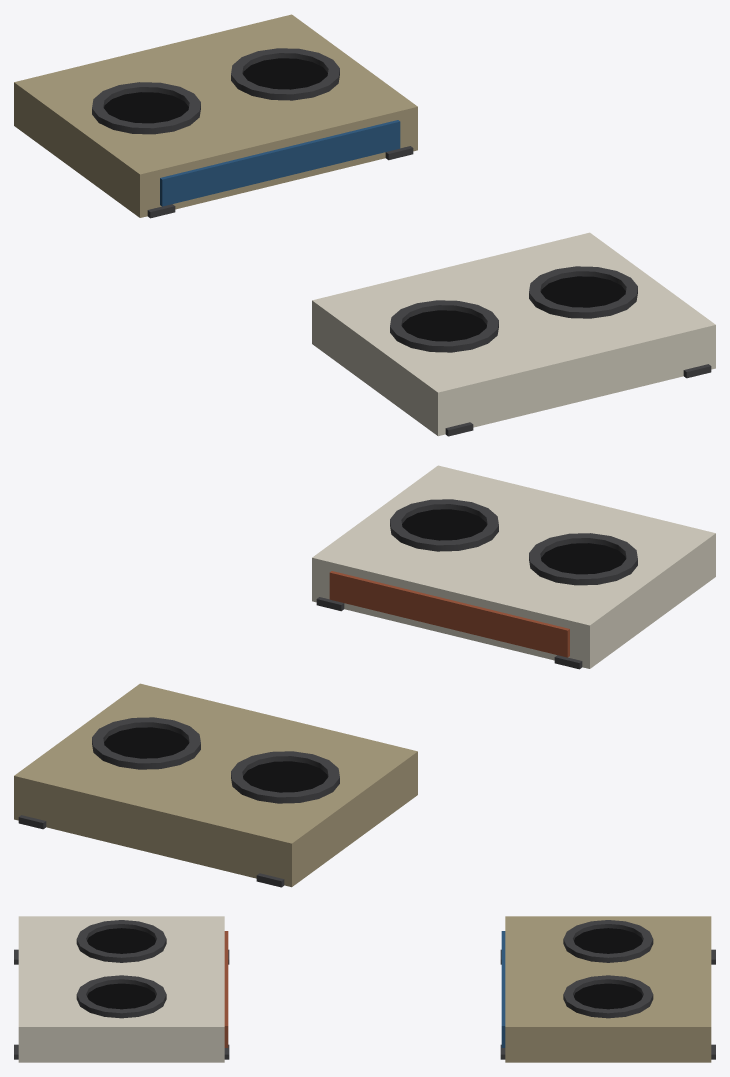
The model's file is pax100_climate.obj.
The picture shows the model from 3 angles, top to bottom: view 1: azimuth 30°, elevation 25°; view 2: azimuth 150°, elevation 25°; view 3: azimuth 270°, elevation 25°; orthographic projection. The views are drawn at different scales.
Visible parts, largest first — view 1: pax100_climate; view 2: pax100_climate; view 3: pax100_climate.
Part boxes in pixels (box(x1,y1,x2,y2)): pax100_climate: box(14, 14, 715, 436); pax100_climate: box(14, 465, 715, 887); pax100_climate: box(14, 916, 715, 1062).
Bounding box in the file's own units: 2.8 × 0.48 × 7.5.
